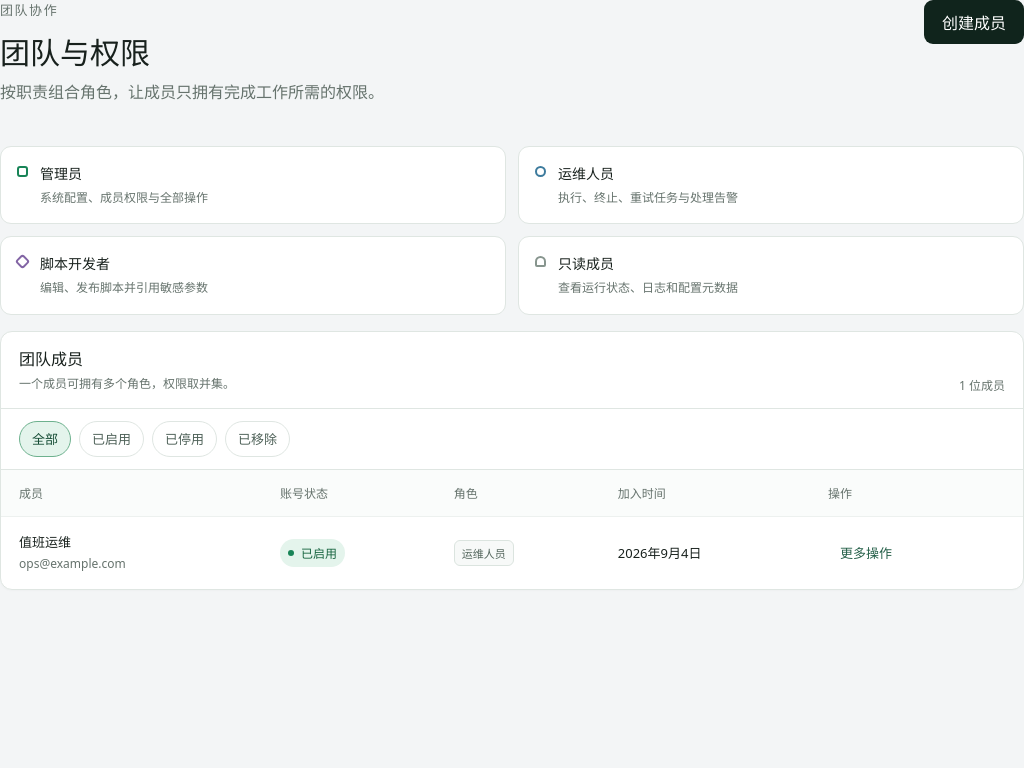
Test: 团队与权限 › 筛选请求失败时清除上一筛选的成员，避免错贴状态标签
The image size is (1024, 768).
expect the text "值班运维" is shown: met, box top-left (19, 533), bottom-right (71, 551)
Click the button "已停用": [184, 439] box top-left (152, 421), bottom-right (217, 457)
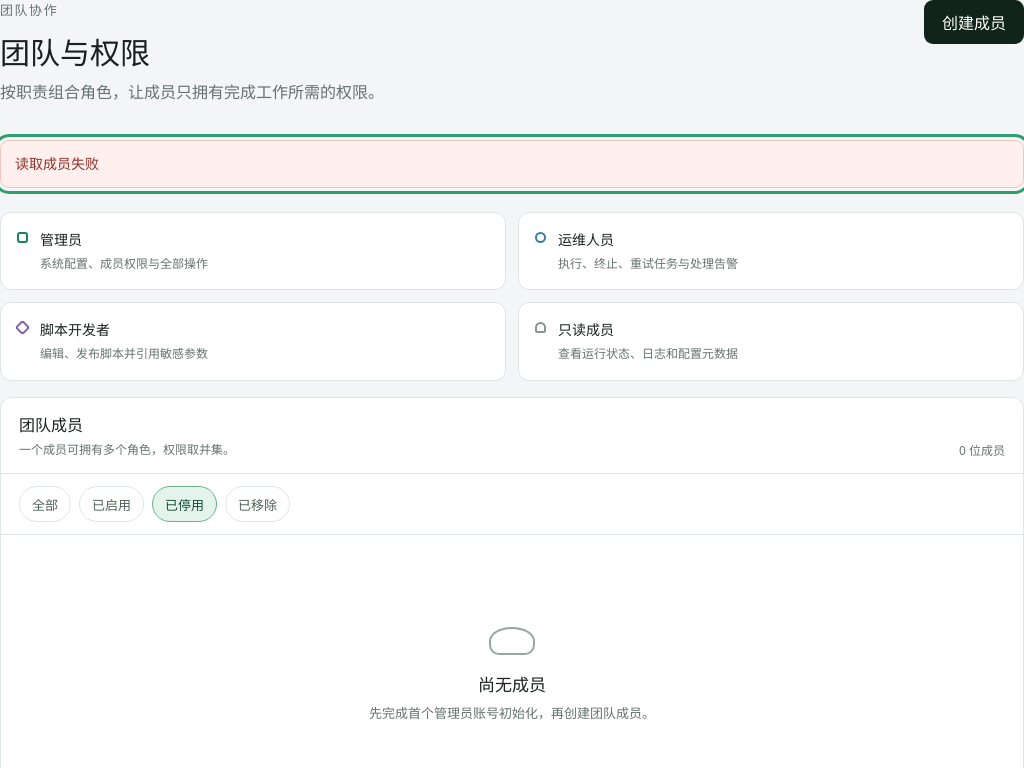
expect the message reads "读取成员失败": met, box top-left (15, 154), bottom-right (99, 173)
expect the text "值班运维" is gone: met
